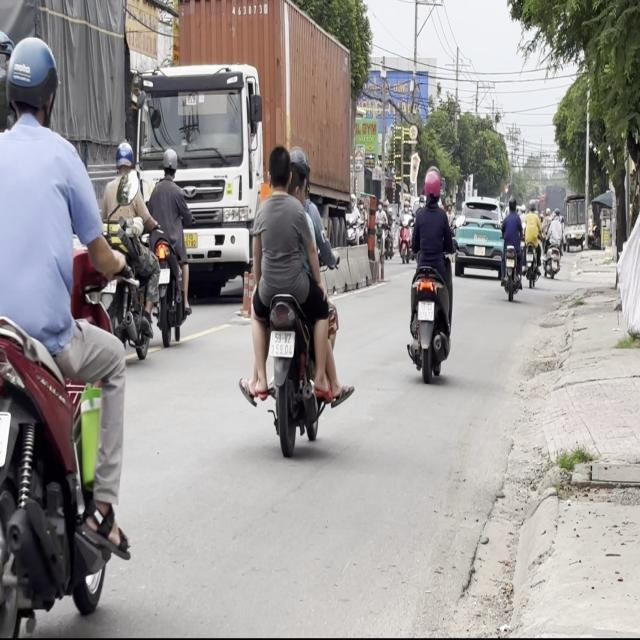helmet: (3, 33, 59, 125), (422, 168, 441, 204), (114, 139, 133, 175), (160, 147, 177, 177), (288, 145, 308, 168)
licenseplate: (1, 33, 137, 638), (238, 140, 349, 457), (96, 139, 156, 364), (404, 168, 457, 380), (144, 145, 192, 344)
motorcyclist: (266, 144, 290, 192), (287, 157, 309, 202)
nohelmet: (270, 332, 294, 358), (418, 300, 434, 320)
